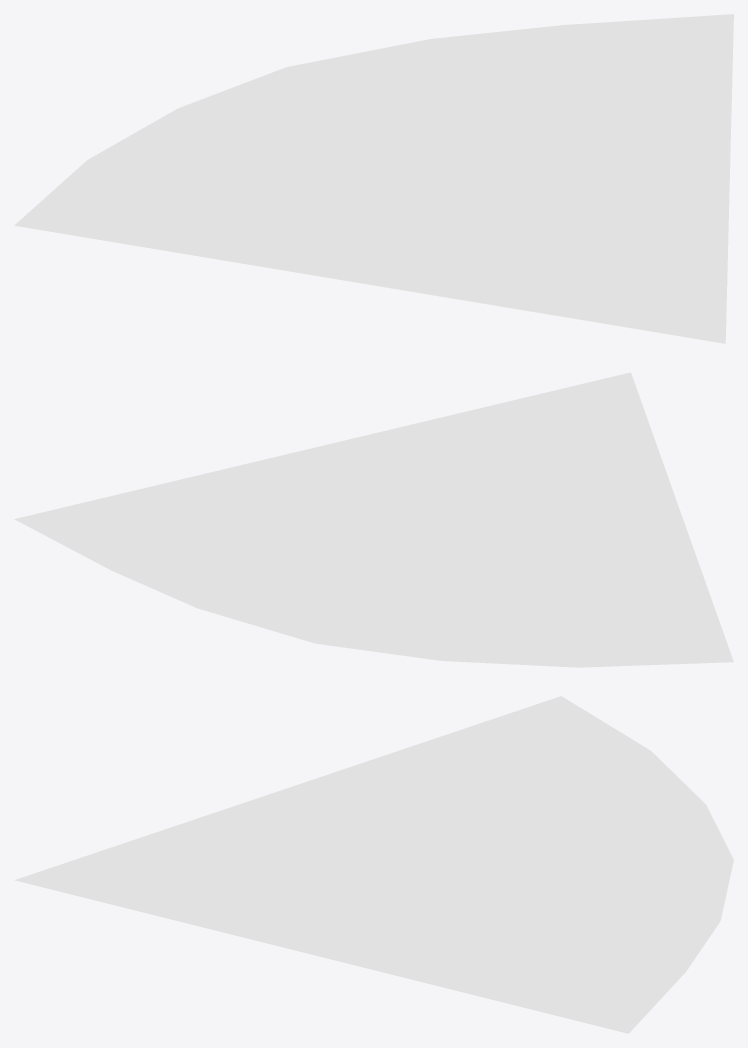
File: shanxing_fanwei.FBX
3 renders of one model, top to bottom at view 1: azimuth 30°, elevation 25°; view 2: azimuth 150°, elevation 25°; view 3: azimuth 270°, elevation 25°, orthographic. The views are drawn at different scales.
Visible parts, largest first — view 1: Plane001; view 2: Plane001; view 3: Plane001.
Part boxes in pixels (bbox=[...]): Plane001: bbox=[14, 14, 733, 343]; Plane001: bbox=[14, 372, 733, 667]; Plane001: bbox=[14, 696, 733, 1033].
Size of the model in its own units: 108 by 5.98e-15 by 97.61.
Materials: 1 (1 with a texture image).
